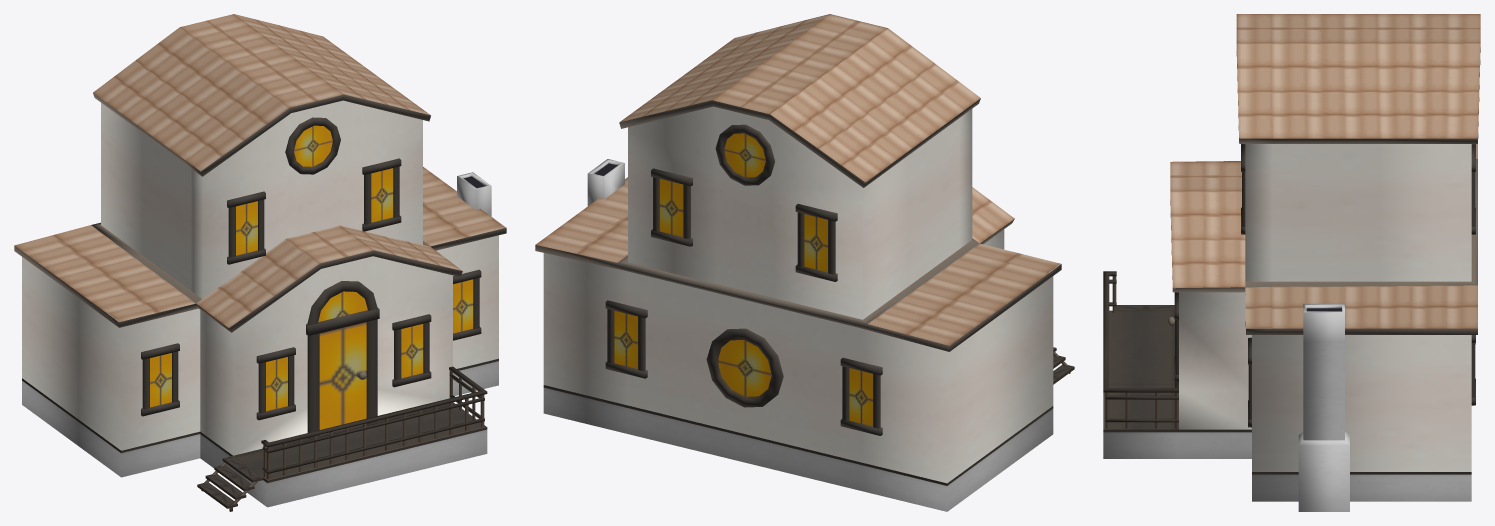
File: Town Houses Variant 3 (Sepia).fbx
The picture shows the model from 3 angles, left to right: view 1: azimuth 30°, elevation 25°; view 2: azimuth 150°, elevation 25°; view 3: azimuth 270°, elevation 25°; orthographic projection. The views are drawn at different scales.
Visible parts, largest first — view 1: Town House 3 V2; view 2: Town House 3 V2; view 3: Town House 3 V2.
Part boxes in pixels (x1=…): Town House 3 V2: x1=14, y1=14, x2=506, y2=511; Town House 3 V2: x1=535, y1=14, x2=1074, y2=511; Town House 3 V2: x1=1103, y1=14, x2=1480, y2=511.
Size of the model in its own units: 1022 by 815 by 751.
1 material, 1 textured.
